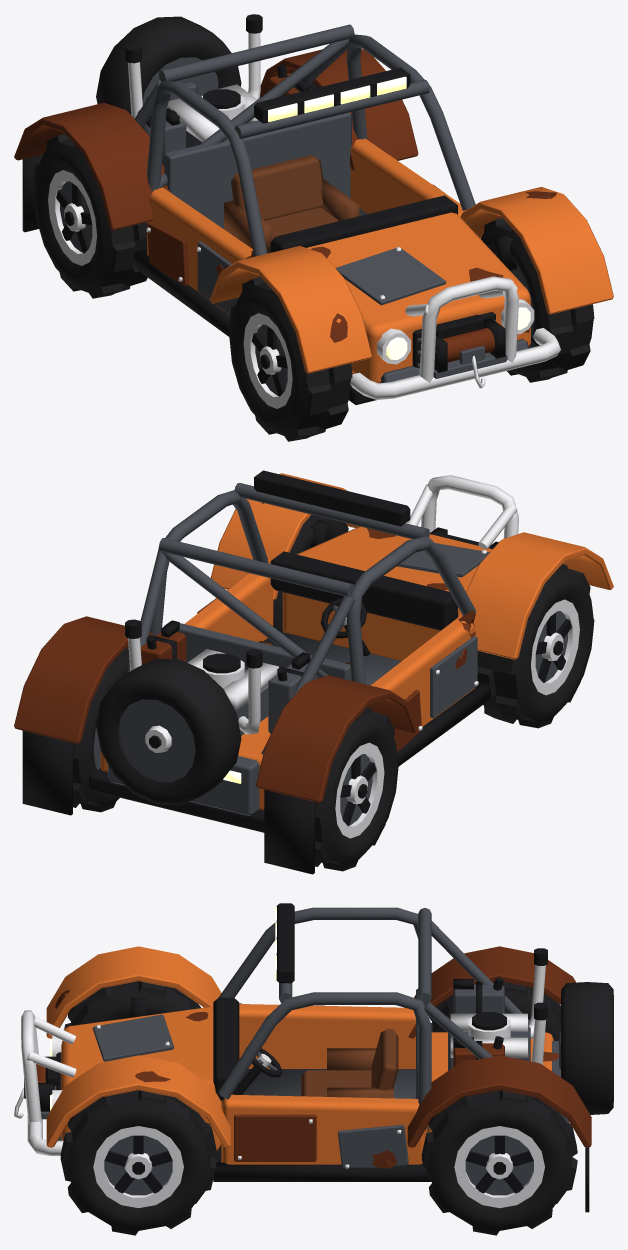
The model's file is buggy.glb.
3 views of the same model, one above another, from view 1: azimuth 30°, elevation 25°; view 2: azimuth 150°, elevation 25°; view 3: azimuth 270°, elevation 25° (orthographic). The views are drawn at different scales.
Parts seen in each view (by area): view 1: Body, WheelFR, WheelRR, WheelFL; view 2: Body, WheelFR, WheelRR, WheelRL, WheelFL; view 3: Body, WheelFL, WheelRL, WheelFR, WheelRR, Steering.
Boxes of the visible parts, x1,y1,x2,y2 form: Body: [14, 14, 613, 404]; WheelFR: [229, 277, 352, 441]; WheelRR: [33, 133, 147, 298]; WheelFL: [481, 218, 594, 382]; Body: [14, 470, 613, 874]; WheelFR: [477, 564, 594, 728]; WheelRR: [315, 707, 398, 871]; WheelRL: [73, 648, 129, 812]; WheelFL: [273, 515, 348, 632]; Body: [14, 903, 613, 1212]; WheelFL: [60, 1090, 216, 1235]; WheelRL: [421, 1090, 577, 1235]; WheelFR: [64, 981, 200, 1028]; WheelRR: [429, 982, 560, 1040]; Steering: [246, 1047, 281, 1077].
Size of the model in its own units: 1.27 by 1.02 by 2.33.
